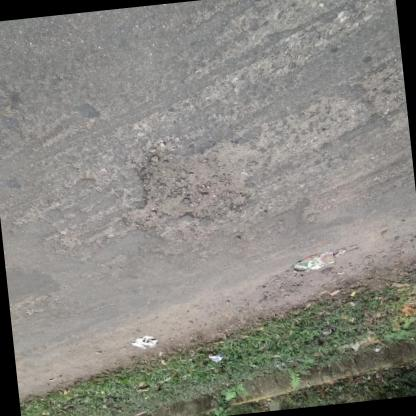pothole: (114, 136, 264, 233)
